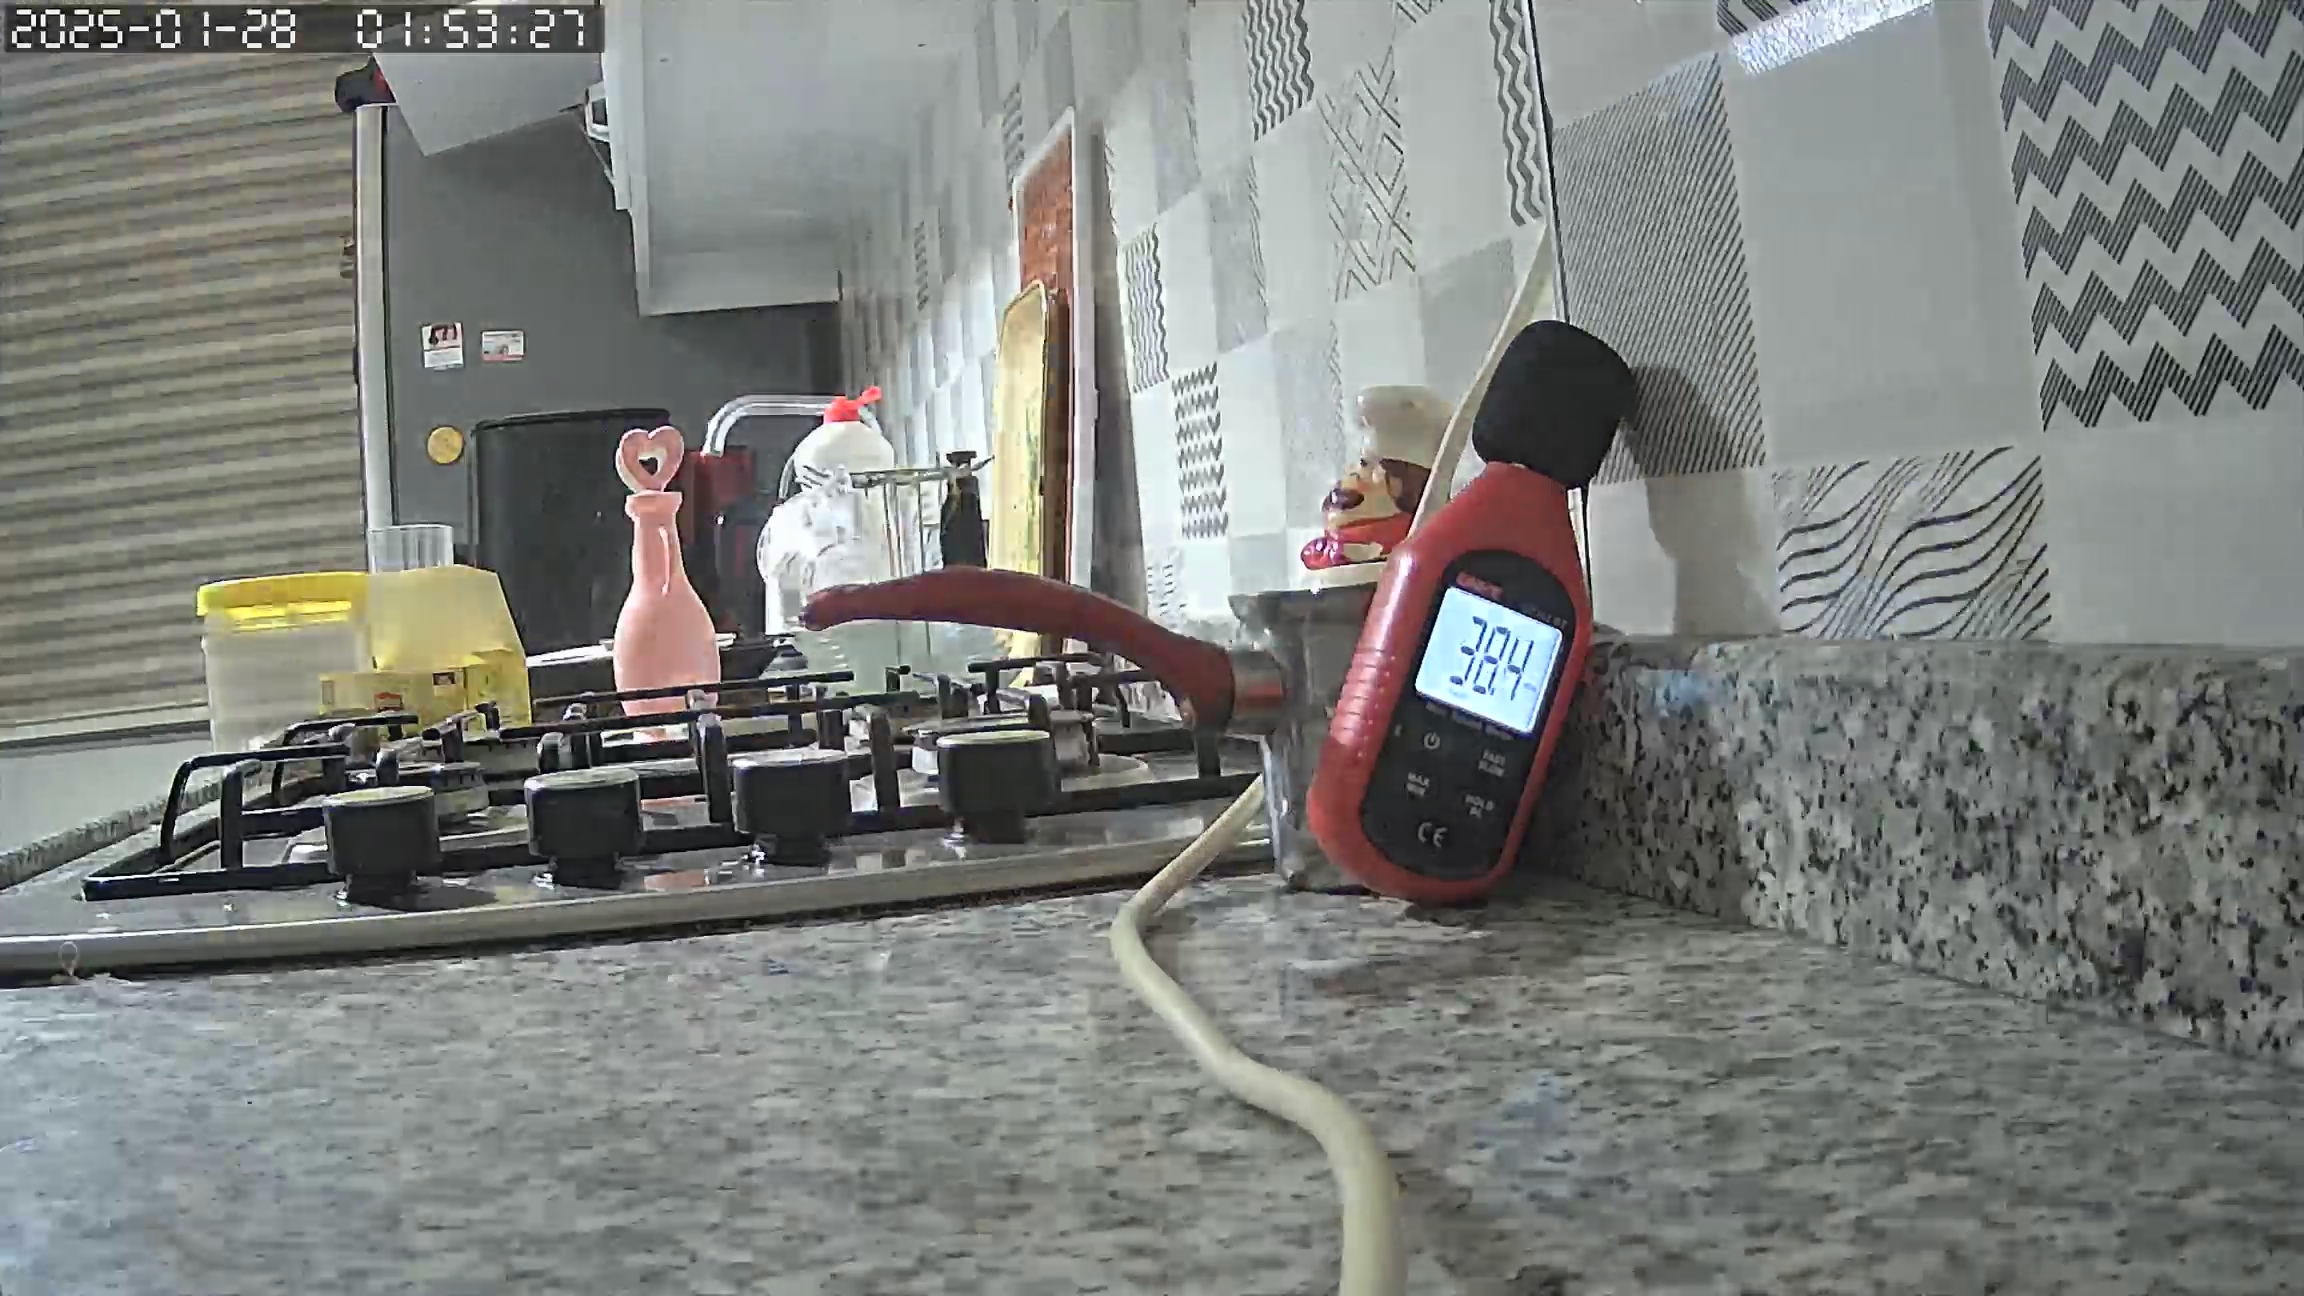screen: (1412, 587, 1563, 733)
